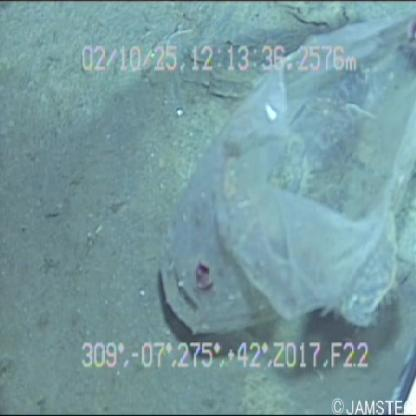Rác: (135, 1, 416, 346)
